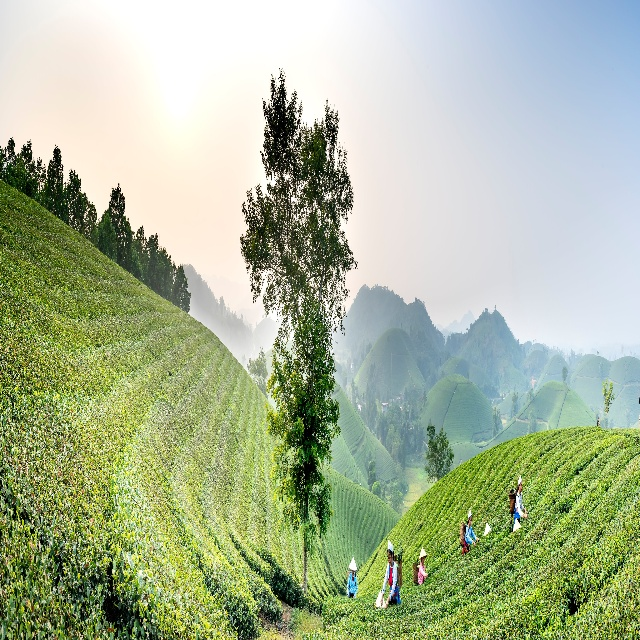Sin_guantes: (380, 597, 384, 606), (385, 599, 388, 610)
